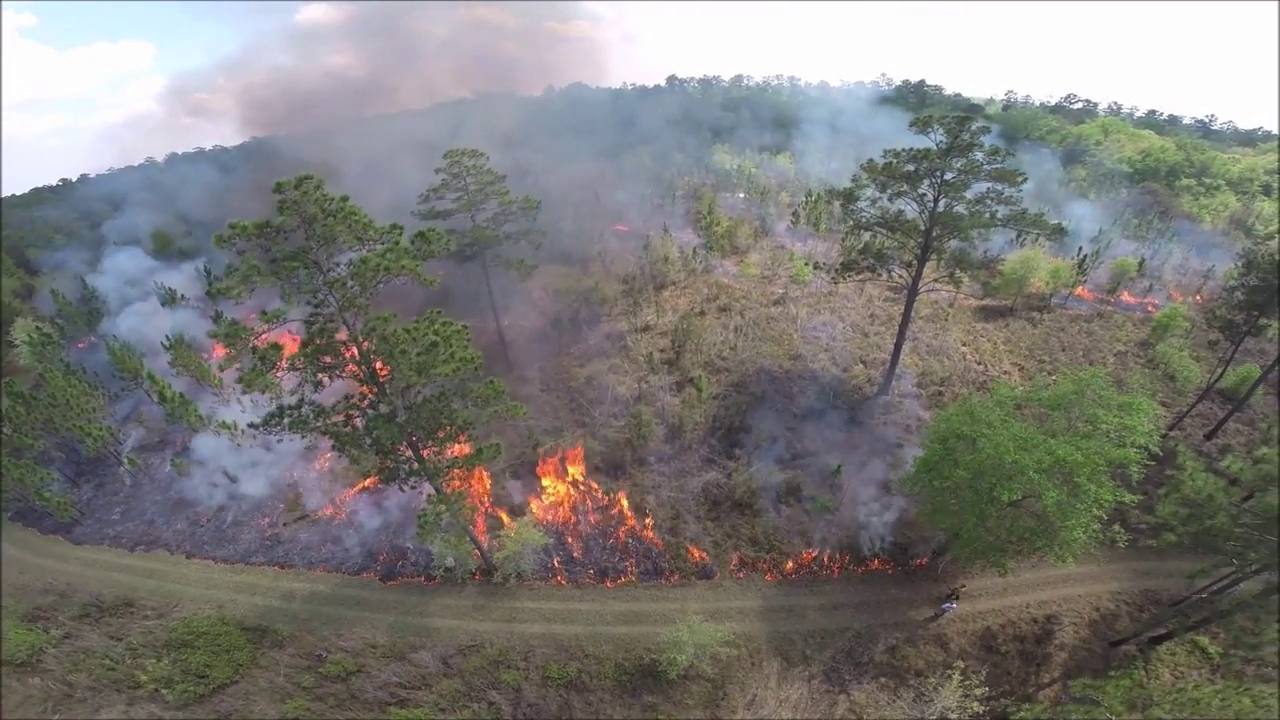forest_fire: (527, 446, 718, 585), (728, 548, 926, 579), (443, 465, 511, 543), (313, 477, 380, 517), (1071, 286, 1168, 313), (367, 546, 432, 579), (257, 328, 301, 356), (343, 345, 367, 391), (440, 436, 471, 455), (314, 451, 332, 471), (375, 358, 390, 376), (210, 343, 224, 358), (335, 336, 343, 339), (405, 447, 408, 452), (425, 497, 429, 500), (249, 318, 250, 319)
